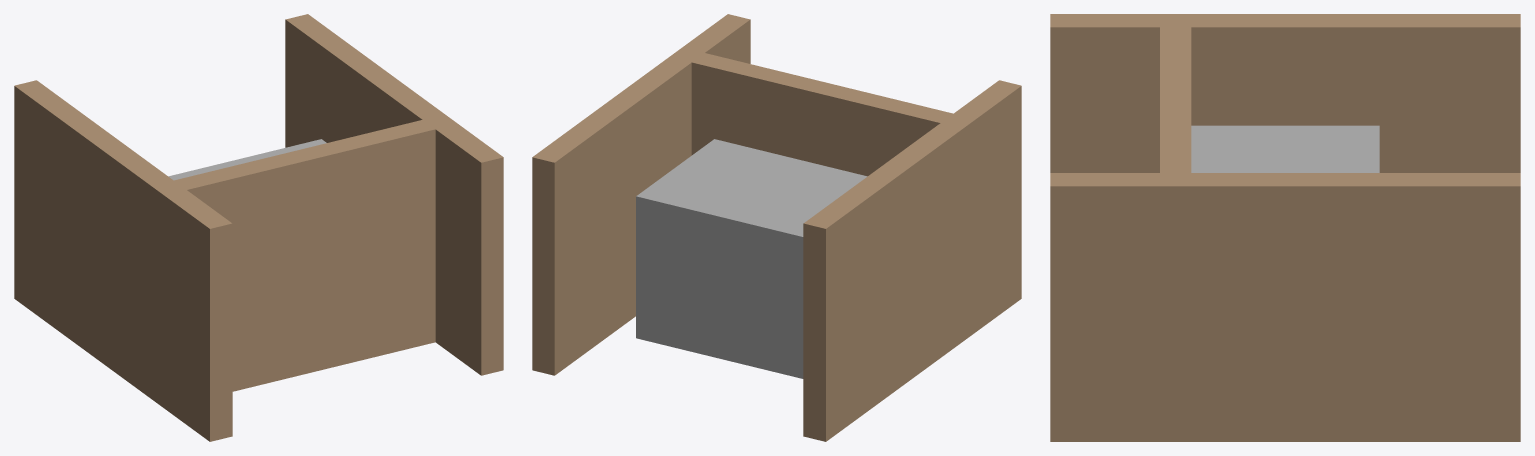
The model's file is dumpster_enclosure.glb.
3 renders of one model, left to right at view 1: azimuth 30°, elevation 25°; view 2: azimuth 150°, elevation 25°; view 3: azimuth 270°, elevation 25°, orthographic. The views are drawn at different scales.
Parts seen in each view (by area): view 1: wall1, wall3, wall2, dumpster; view 2: wall1, dumpster, wall2, wall3; view 3: wall2, wall1, dumpster, wall3.
Part boxes in pixels (box(x1,y1,x2,y2)): wall1: box(14, 80, 232, 441); wall3: box(163, 117, 435, 391); wall2: box(285, 14, 503, 375); dumpster: box(168, 139, 326, 180); wall1: box(803, 80, 1021, 441); dumpster: box(636, 139, 867, 378); wall2: box(532, 14, 750, 375); wall3: box(685, 53, 962, 176); wall2: box(1050, 173, 1520, 441); wall1: box(1050, 14, 1520, 172); dumpster: box(1191, 125, 1379, 172); wall3: box(1160, 20, 1191, 172).
Bounding box in the file's own units: 2.6 × 1.8 × 3.
